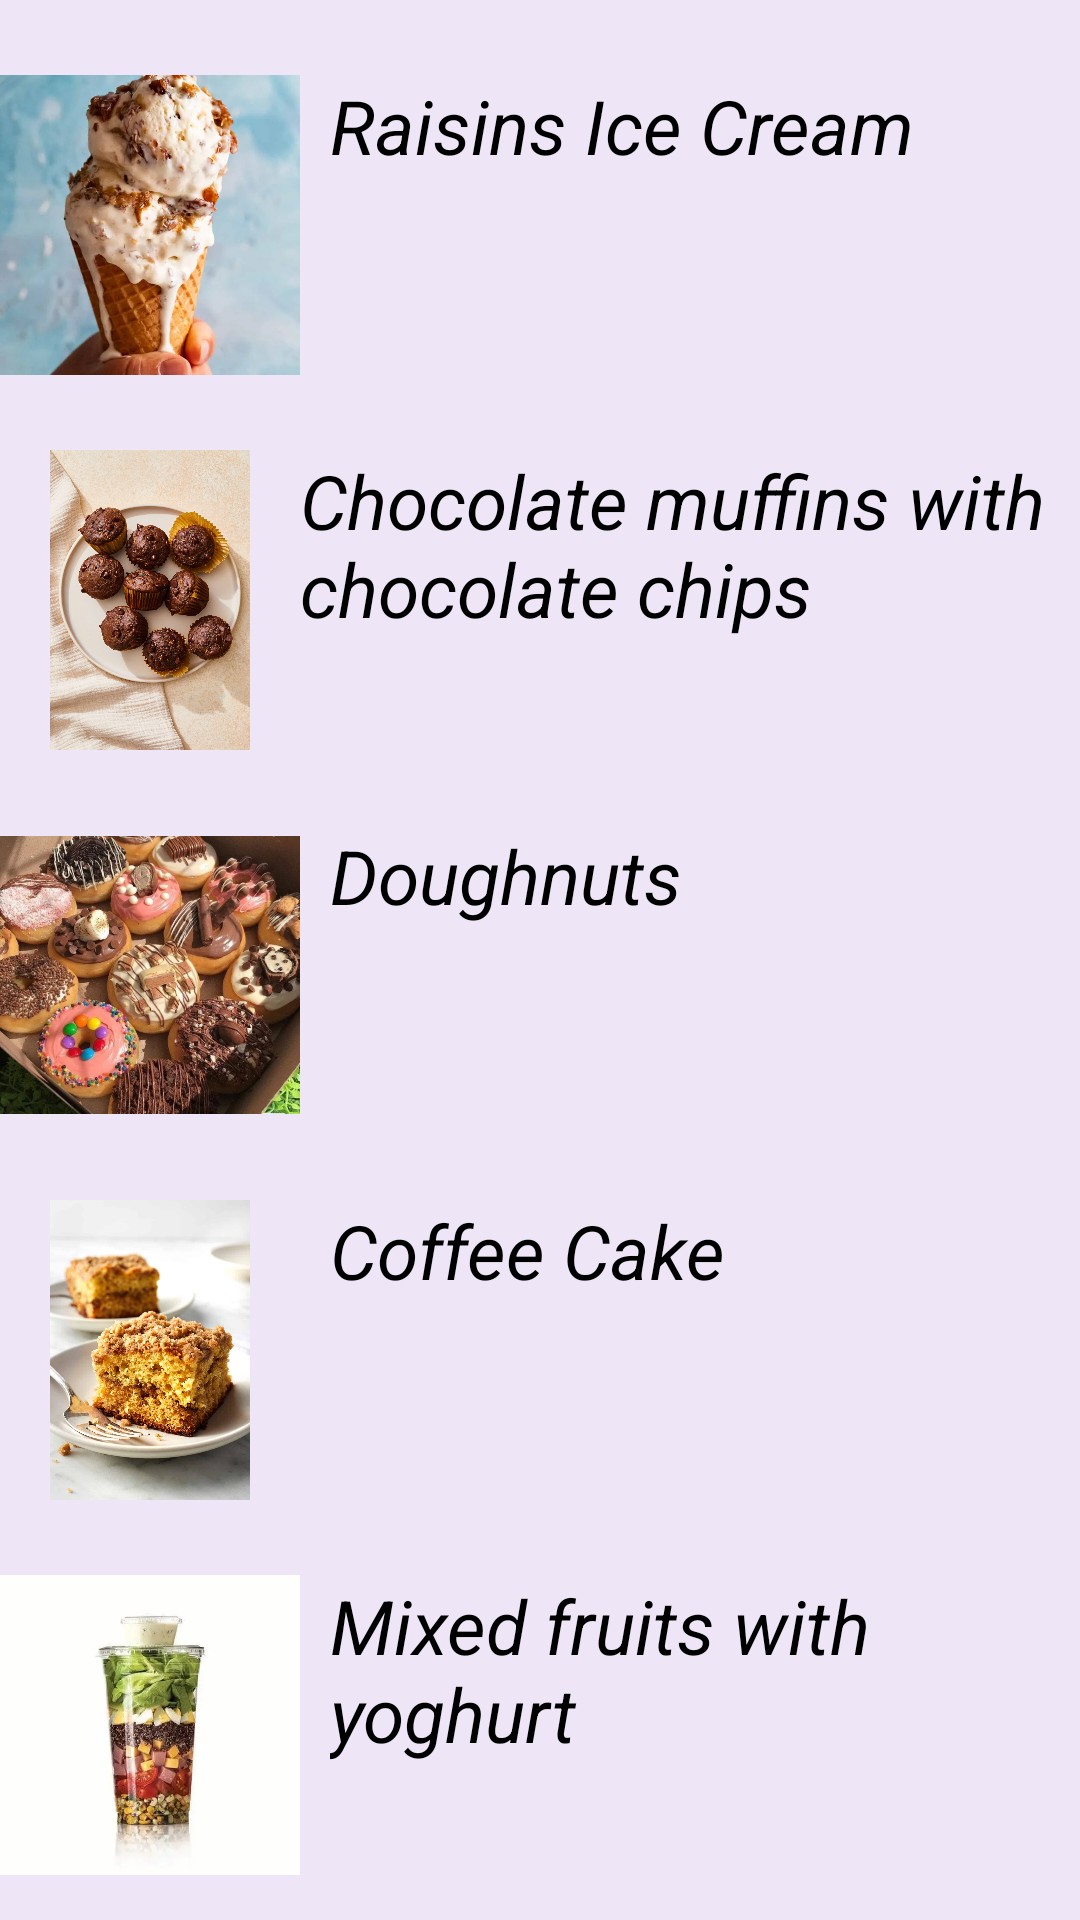

Icons on this 1080 × 1920 Android screen, each with its box as [x1=x1, y1=y1, x2=x2, y2=y2]:
snack: [x1=0, y1=75, x2=300, y2=375], [x1=50, y1=450, x2=250, y2=750], [x1=0, y1=836, x2=300, y2=1114], [x1=50, y1=1200, x2=250, y2=1500], [x1=0, y1=1575, x2=300, y2=1875]
